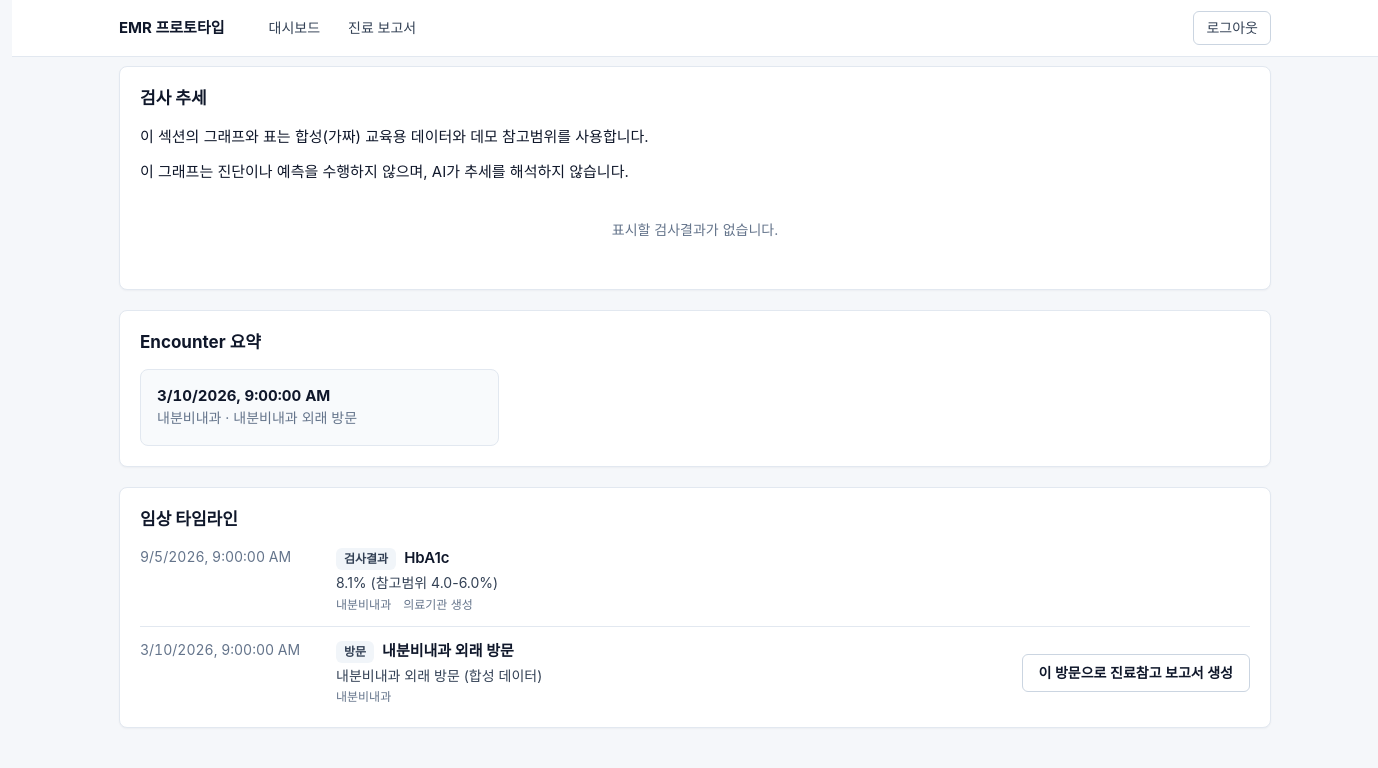
Test case: PatientTimelinePage › navigates to the report preview page on a 201 response
(page scrolled)
Click the button "이 방문으로 진료참고 보고서 생성".
click(1136, 673)  # box [1022,654,1250,692]
(page scrolled)
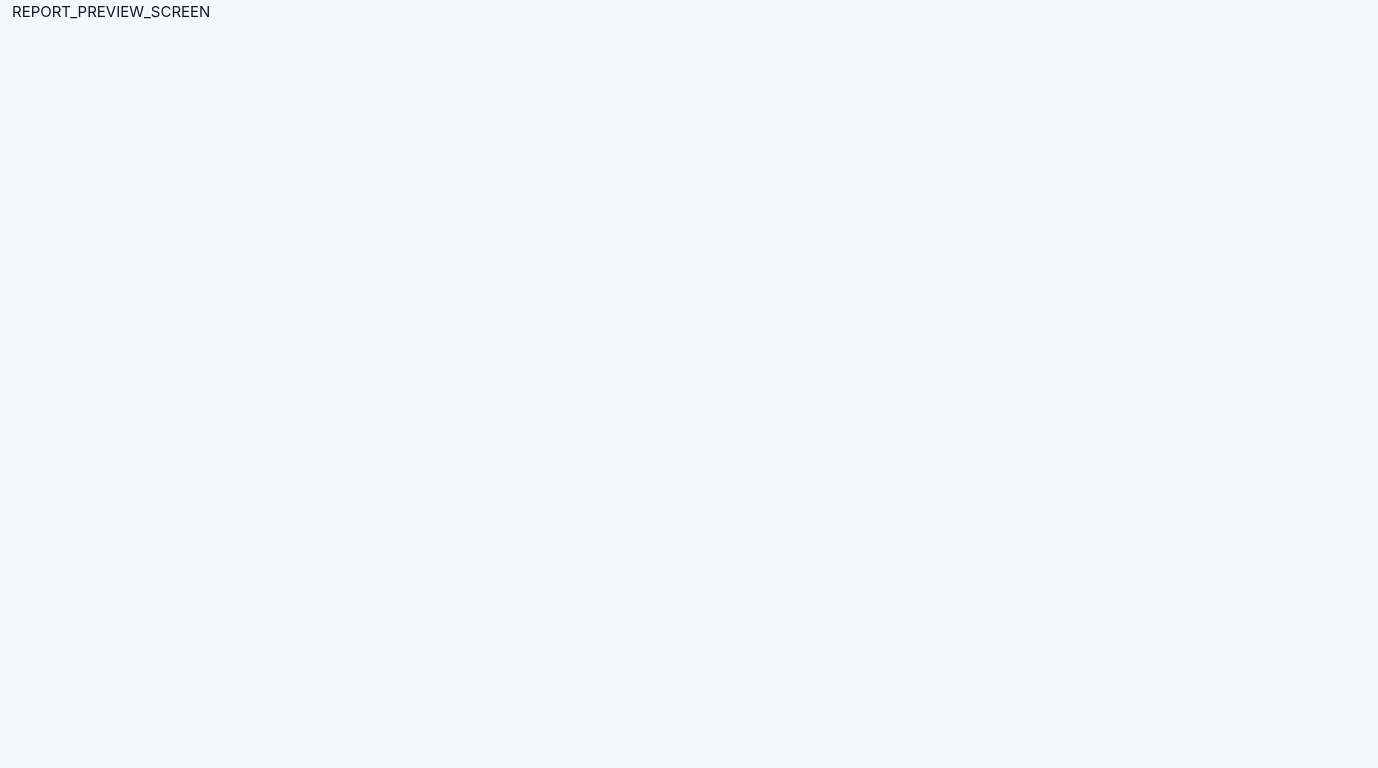
Expected: the text "REPORT_PREVIEW_SCREEN" is shown, [12,2,210,21]
